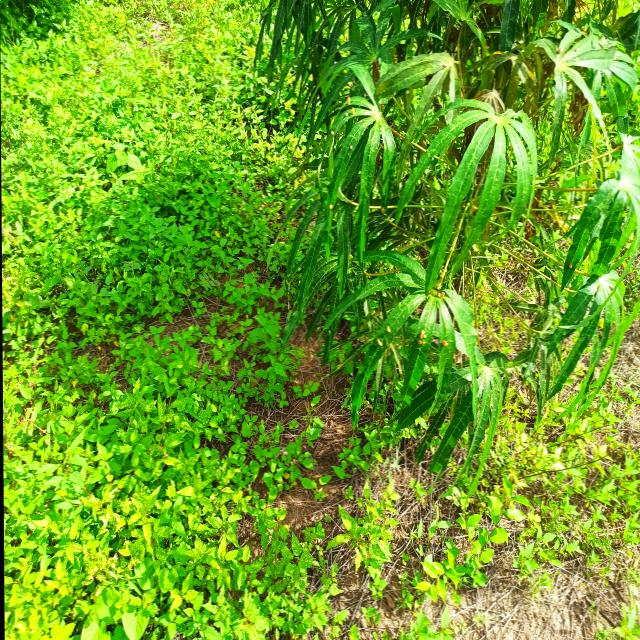Maleza: (9, 194, 285, 483), (9, 419, 358, 636), (12, 17, 250, 328), (497, 441, 625, 583)
Mosca: (463, 239, 482, 256), (416, 328, 429, 346), (372, 335, 384, 351), (348, 102, 357, 120), (324, 200, 335, 214), (383, 325, 396, 334), (340, 63, 349, 74), (440, 339, 449, 350), (345, 95, 352, 107)
